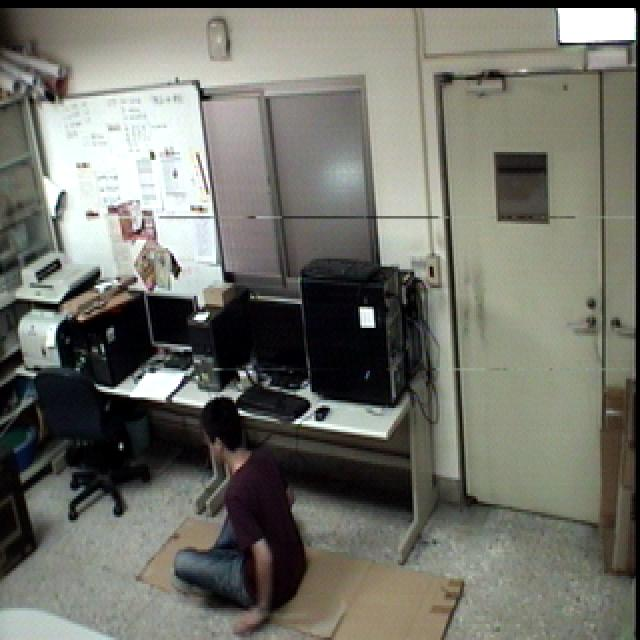sit: (167, 389, 315, 640)
